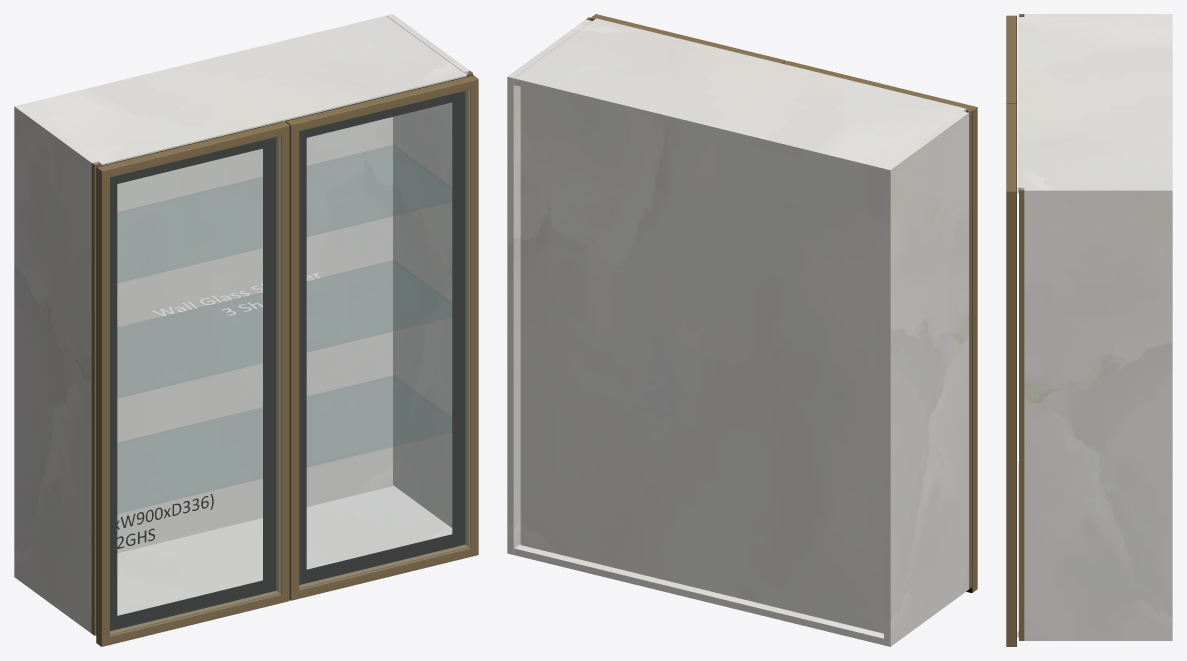
File: WC-SH-NHX-GL-3SG-2HS-XXX-900-1085-336-15.glb
3 views of the same model, side by side, from view 1: azimuth 30°, elevation 25°; view 2: azimuth 150°, elevation 25°; view 3: azimuth 270°, elevation 25° (orthographic). The views are drawn at different scales.
Visible parts, largest first — view 1: TP_node_2, Object_node_14, Object_node_10, TP_node_0, Neon 22 Profile ALU PROF NEON 20 L21XH22.5MM 3MTR S2/405 SEC (×8), TP, TP_node_1, TP_node, Object_node_12, Object_node_16, Object_node_18; view 2: TP_node_2, TP_node_0, TP, TP_node_1, Neon 22 Profile ALU PROF NEON 20 L21XH22.5MM 3MTR S2/405 SEC (×3), TP_node, Object_node_18; view 3: TP_node_1, TP, Neon 22 Profile ALU PROF NEON 20 L21XH22.5MM 3MTR S2/405 SEC (×3), Object_node_24, Object_node_16, TP_node_0, TP_node.
Part boxes in pixels (left/top/right/bottom): TP_node_2: left=117, top=117, right=392, bottom=553; Object_node_14: left=299, top=90, right=469, bottom=589; Object_node_10: left=110, top=136, right=280, bottom=635; TP_node_0: left=14, top=105, right=97, bottom=633; Neon 22 Profile ALU PROF NEON 20 L21XH22.5MM 3MTR S2/405 SEC (×8): left=96, top=75, right=478, bottom=646; TP: left=21, top=15, right=466, bottom=165; TP_node_1: left=386, top=14, right=469, bottom=527; TP_node: left=117, top=485, right=452, bottom=615; Object_node_12: left=96, top=121, right=283, bottom=642; Object_node_16: left=285, top=75, right=473, bottom=584; Object_node_18: left=91, top=162, right=99, bottom=635; TP_node_2: left=520, top=87, right=883, bottom=633; TP_node_0: left=884, top=111, right=968, bottom=646; TP: left=514, top=18, right=966, bottom=175; TP_node_1: left=507, top=19, right=591, bottom=554; Neon 22 Profile ALU PROF NEON 20 L21XH22.5MM 3MTR S2/405 SEC (×3): left=591, top=14, right=977, bottom=592; TP_node: left=514, top=544, right=883, bottom=645; Object_node_18: left=966, top=109, right=971, bottom=589; TP_node_1: left=1024, top=187, right=1172, bottom=640; TP: left=1017, top=17, right=1172, bottom=193; Neon 22 Profile ALU PROF NEON 20 L21XH22.5MM 3MTR S2/405 SEC (×3): left=1006, top=15, right=1016, bottom=646; Object_node_24: left=1019, top=188, right=1024, bottom=640; Object_node_16: left=1016, top=104, right=1016, bottom=646; TP_node_0: left=1024, top=14, right=1172, bottom=16; TP_node: left=1017, top=461, right=1018, bottom=637.
Size of what is drawn, in the model's own units: 0.9 by 1.09 by 0.358.
7 materials, 1 textured.
